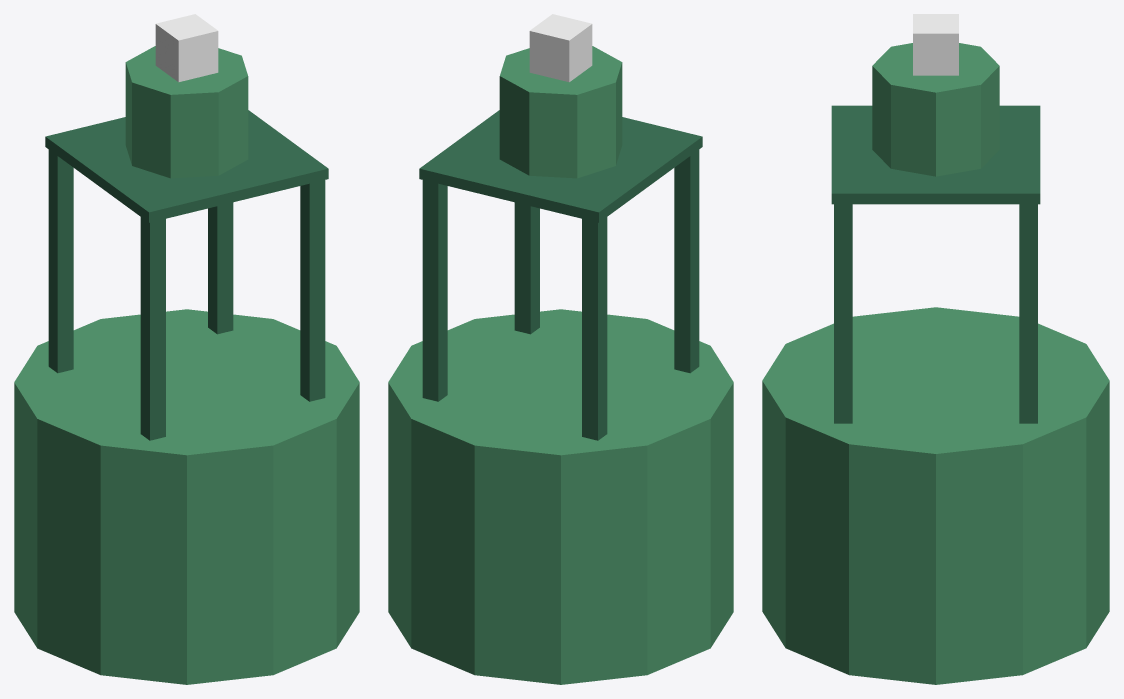
File: buoy_2.glb
3 views of the same model, side by side, from view 1: azimuth 30°, elevation 25°; view 2: azimuth 150°, elevation 25°; view 3: azimuth 270°, elevation 25° (orthographic).
Parts seen in each view (by area): view 1: LOD0; view 2: LOD0; view 3: LOD0.
Boxes of the visible parts, box(x1,y1,x2,y2) form: LOD0: box(14, 14, 359, 684); LOD0: box(388, 14, 733, 684); LOD0: box(762, 14, 1109, 684).
Size of what is drawn, in the model's own units: 3 by 5.6 by 3.
